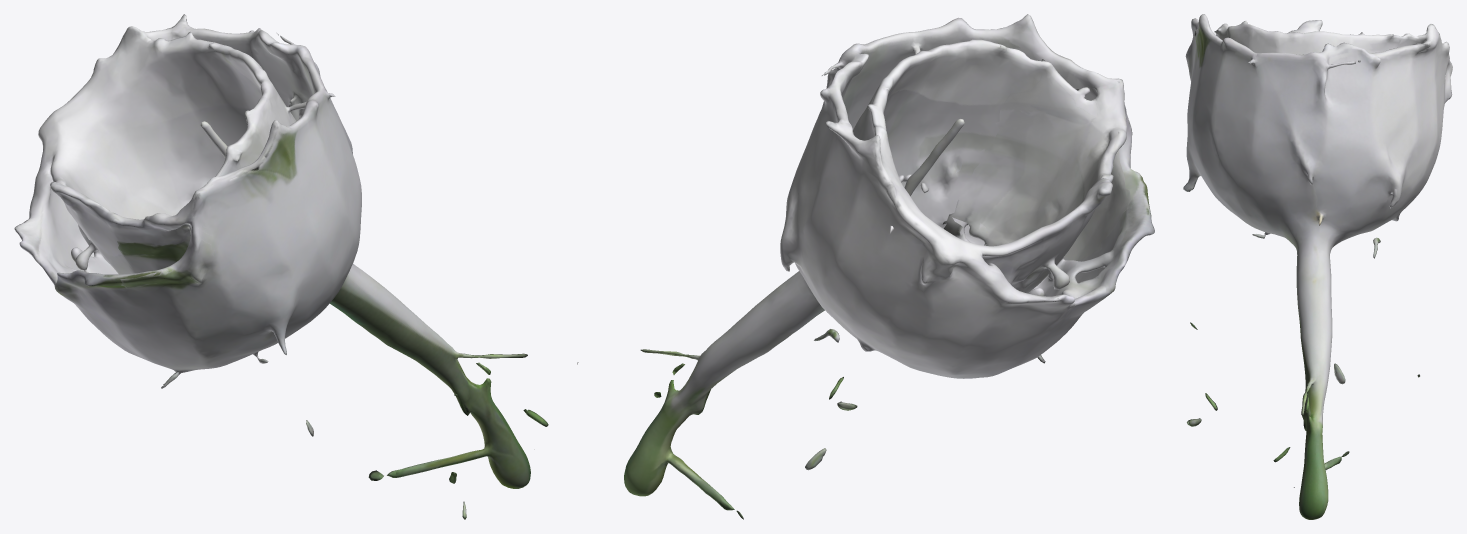
The model's file is herb0055.gltf.
3 renders of one model, left to right at view 1: azimuth 30°, elevation 25°; view 2: azimuth 150°, elevation 25°; view 3: azimuth 270°, elevation 25°, orthographic. The views are drawn at different scales.
Visible parts, largest first — view 1: Mesh_0; view 2: Mesh_0; view 3: Mesh_0.
Boxes of the visible parts, box(x1,y1,x2,y2) form: Mesh_0: box(14, 14, 548, 519); Mesh_0: box(577, 14, 1154, 519); Mesh_0: box(1183, 14, 1452, 519).
Size of the model in its own units: 2 by 1.97 by 1.24.
Materials: 1 (1 with a texture image).
